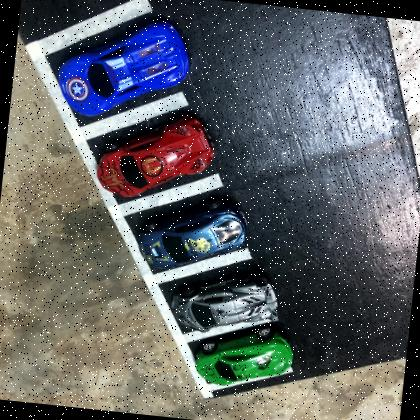Car: (54, 10, 194, 127), (94, 106, 220, 206), (135, 193, 248, 276), (166, 268, 284, 342), (192, 322, 296, 394)
